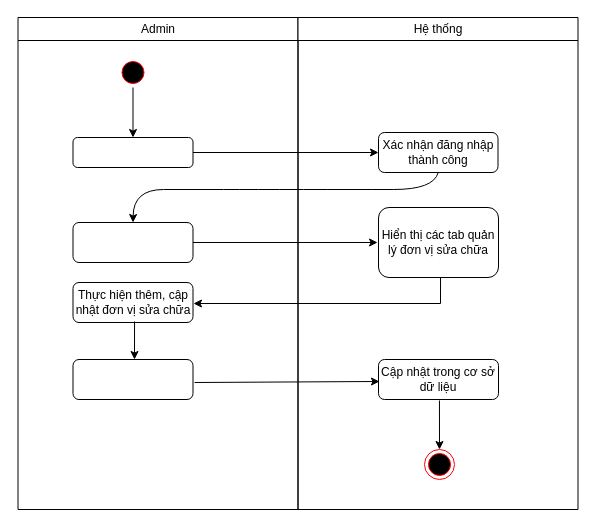
This 595x527 diagram has some shape labels left out. The box of each missing label's shape, as (x1, y1, x2, y2) in pixels:
Chọn quản lý đơn vị sửa chữa: (72, 222, 193, 262)
Xác nhận lưu thông tin đơn vị sửa chữa: (72, 358, 193, 400)
Đăng nhập admin: (72, 136, 193, 168)
